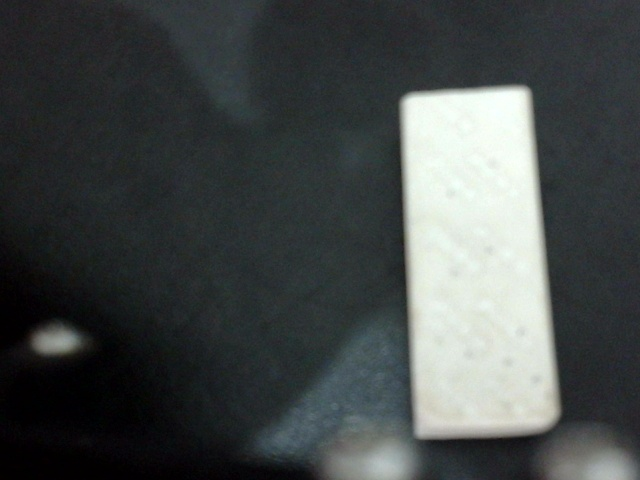eraser: (381, 84, 559, 440)
